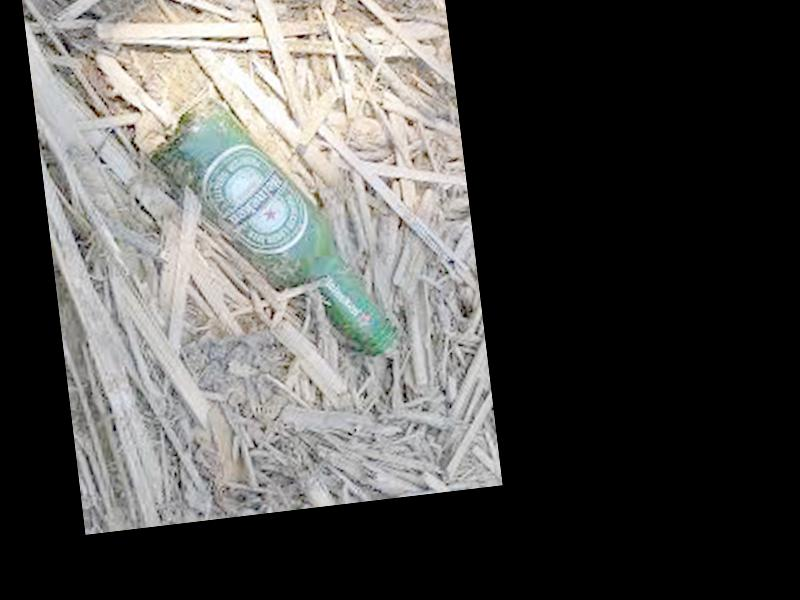Beer: (147, 81, 397, 382)
